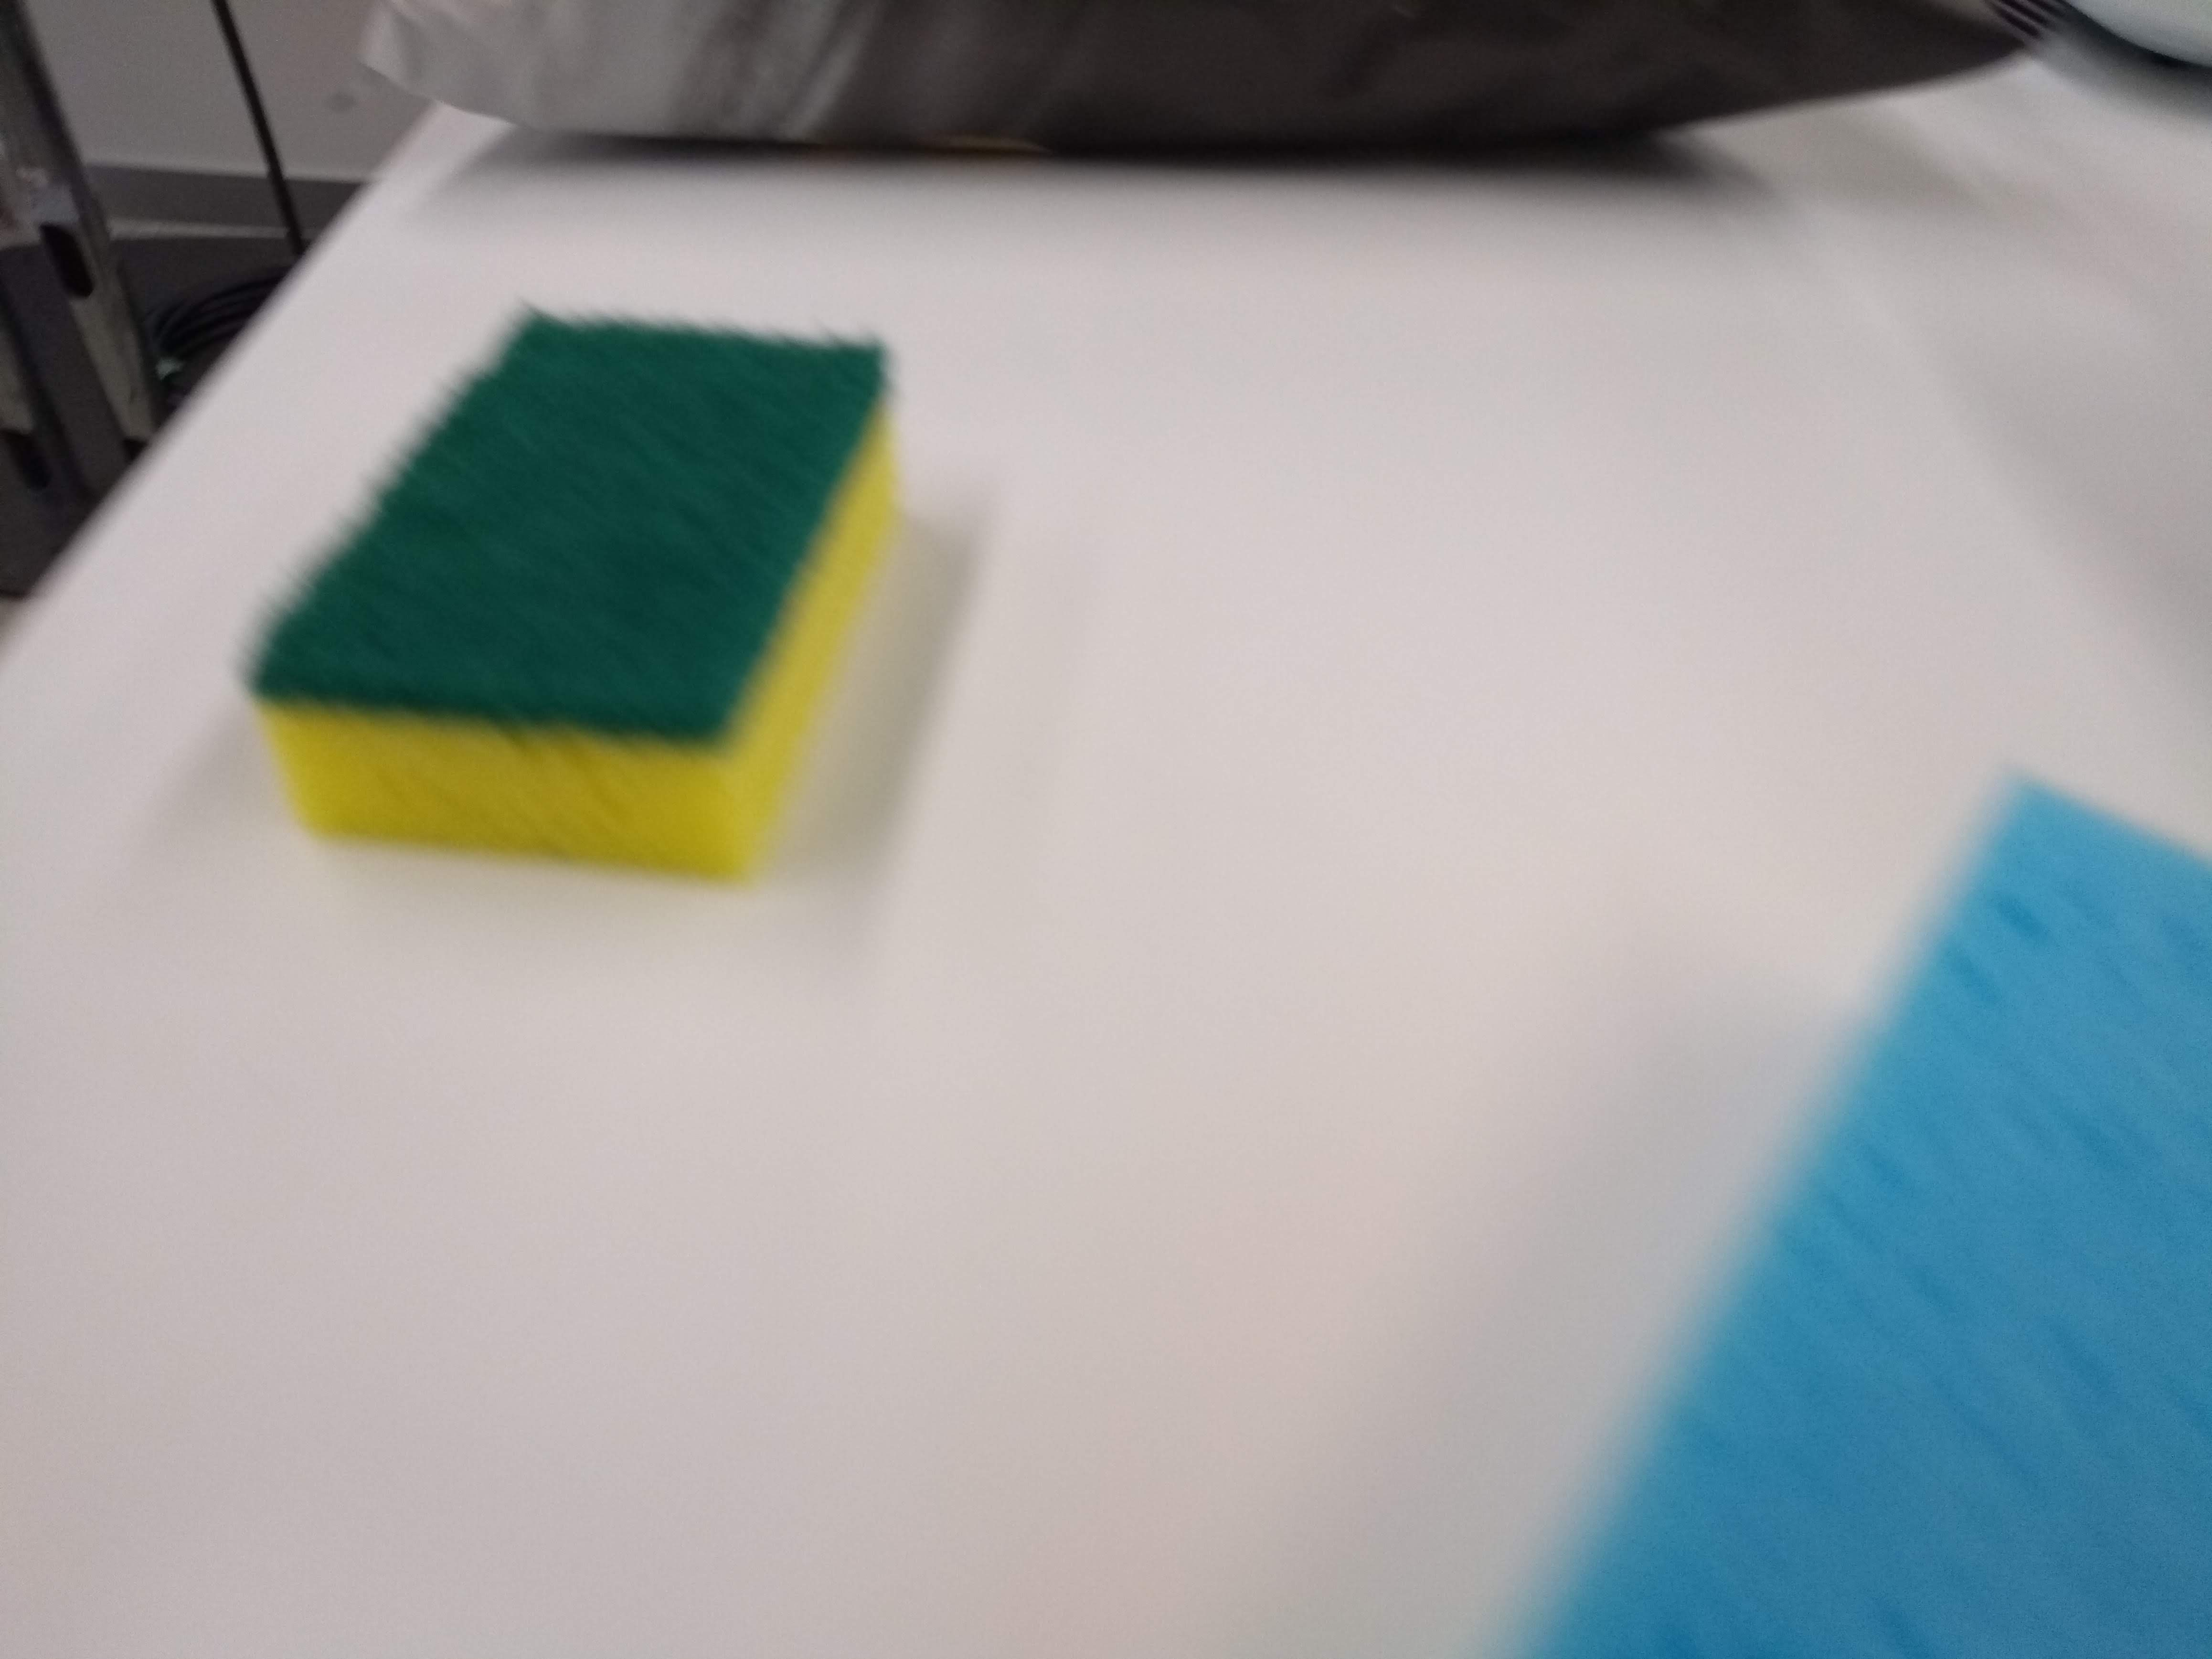scrubby: (246, 281, 930, 910)
